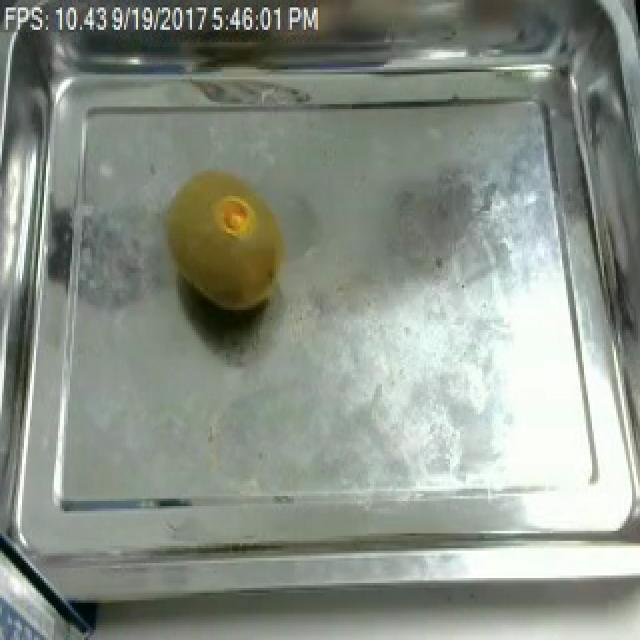Fruit: (158, 161, 296, 320)
